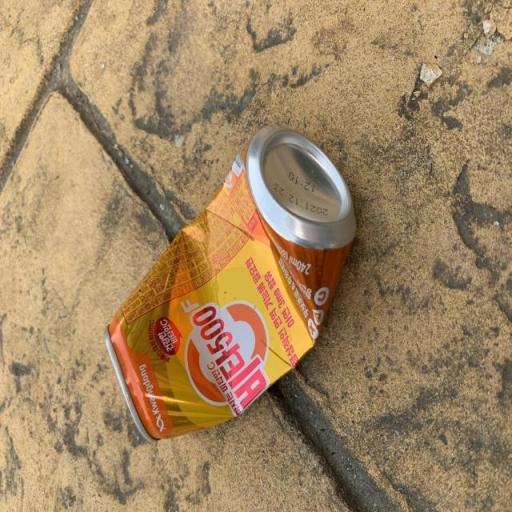metal: (93, 104, 362, 472)
